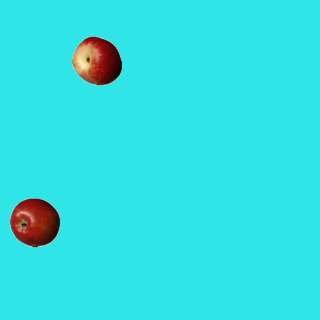Apple Braeburn: (9, 197, 59, 247)
Nectarine: (71, 35, 121, 85)
